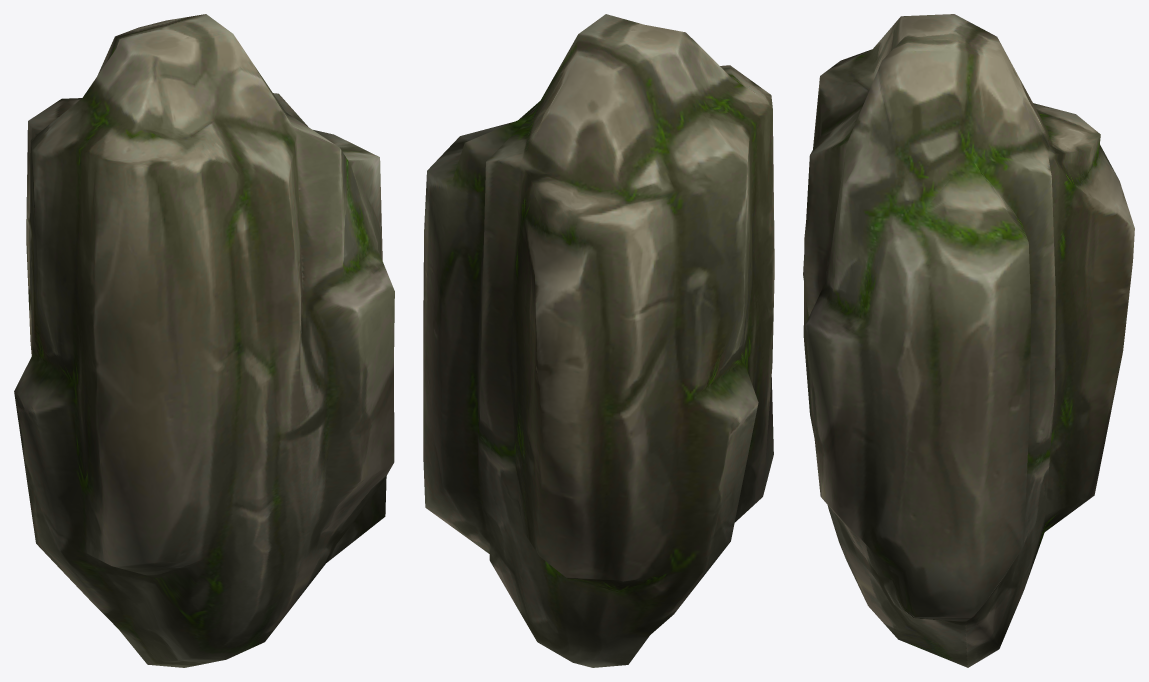
Rendered from RockFormation_4_2 (58).fbx.
The picture shows the model from 3 angles, left to right: view 1: azimuth 30°, elevation 25°; view 2: azimuth 150°, elevation 25°; view 3: azimuth 270°, elevation 25°; orthographic projection. The views are drawn at different scales.
Parts seen in each view (by area): view 1: RockFormation_4_2 (58); view 2: RockFormation_4_2 (58); view 3: RockFormation_4_2 (58).
Boxes of the visible parts, left/top/right/bottom form: RockFormation_4_2 (58): left=14, top=14, right=394, bottom=667; RockFormation_4_2 (58): left=423, top=14, right=774, bottom=667; RockFormation_4_2 (58): left=803, top=14, right=1134, bottom=667.
Bounding box in the file's own units: 262 × 489 × 239.
1 material, 1 textured.
